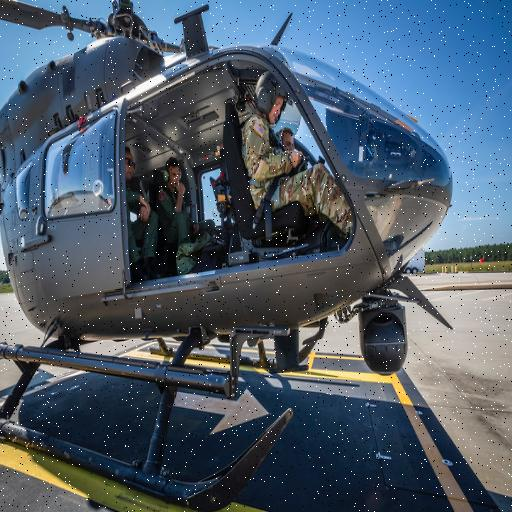helicopter: (1, 1, 461, 506)
